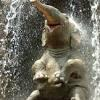elephant: (26, 0, 89, 99)
